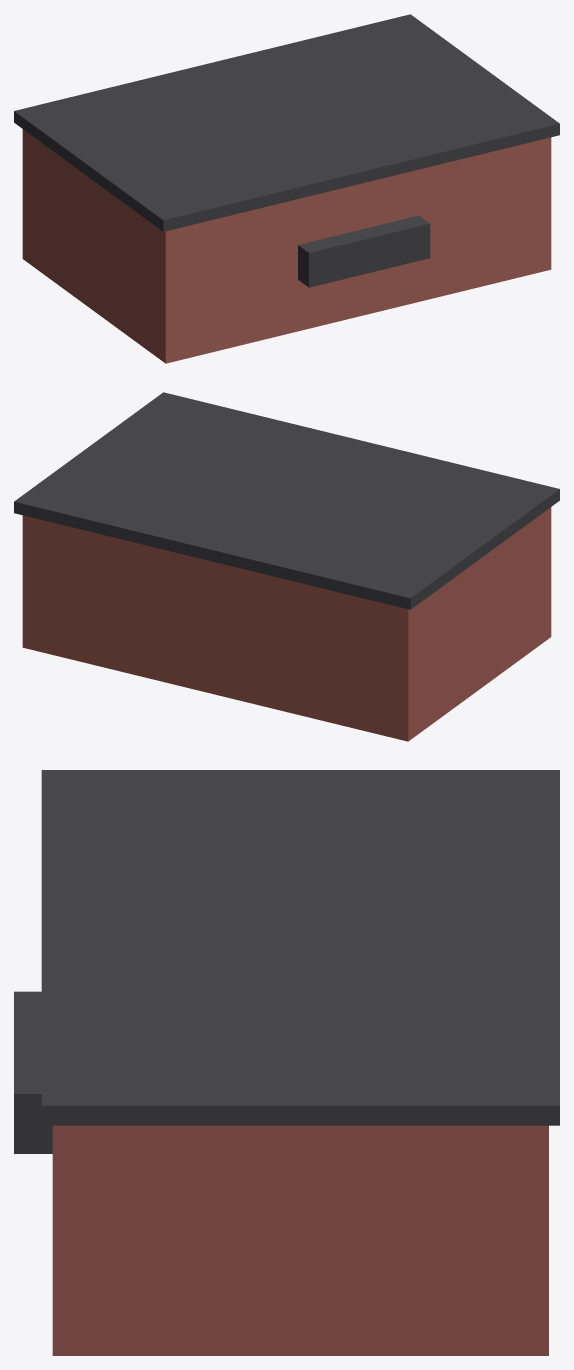
File: v2_suitcase_red.glb
3 views of the same model, one above another, from view 1: azimuth 30°, elevation 25°; view 2: azimuth 150°, elevation 25°; view 3: azimuth 270°, elevation 25° (orthographic). The views are drawn at different scales.
Visible parts, largest first — view 1: v2_suitcase_red; view 2: v2_suitcase_red; view 3: v2_suitcase_red.
Boxes of the visible parts, <box> form: v2_suitcase_red: <box>14,14,559,363</box>; v2_suitcase_red: <box>14,392,559,741</box>; v2_suitcase_red: <box>14,770,559,1355</box>.
Size of the model in its own units: 0.72 by 0.255 by 0.495.
